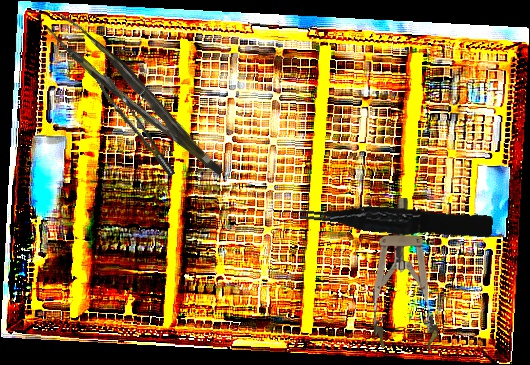Speculum: (371, 197, 439, 351)
Tissue Forceps: (45, 2, 224, 196), (298, 192, 494, 247), (94, 65, 176, 186)
